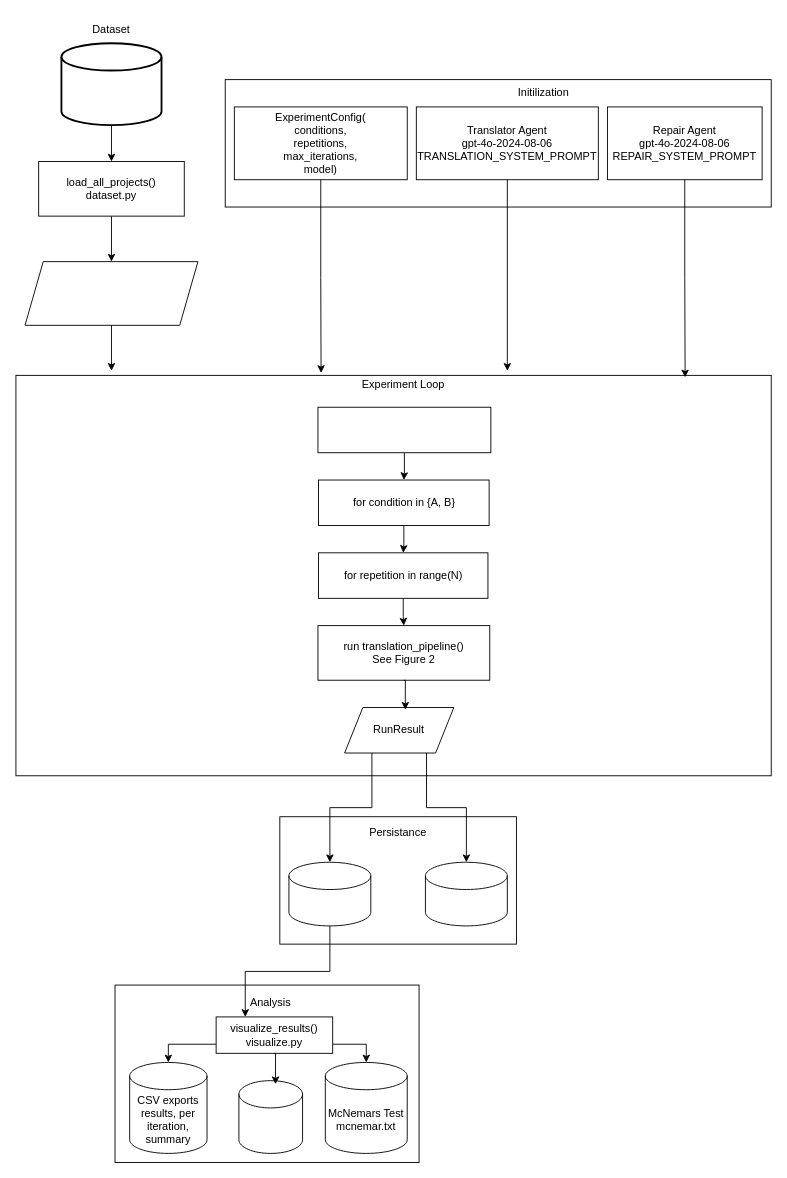
This 787x1178 diagram has some shape labels left out. Each missing label, with the centre of its shape:
"5 plots PNG + PDF" belongs at (270,1116).
"C++ Projects inputs/projects/" belongs at (111,84).
"for unit in units" belongs at (404,429).
"List of TranslationUnit (Project, Path, Source, LOC)" belongs at (111,293).
"results.jsonl append-only" belongs at (329,893).
"translations/*.rs files" belongs at (466,893).
